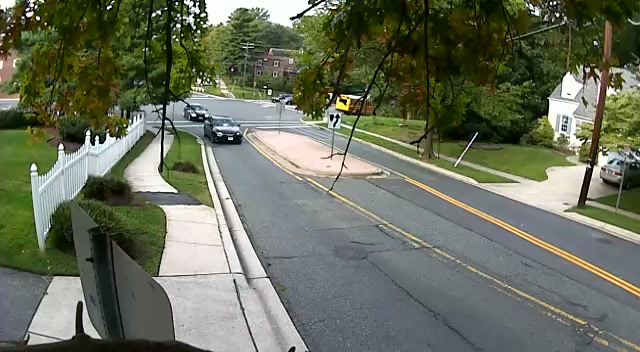car: (600, 151, 640, 189), (203, 116, 242, 144), (184, 104, 211, 122), (278, 93, 292, 104)
